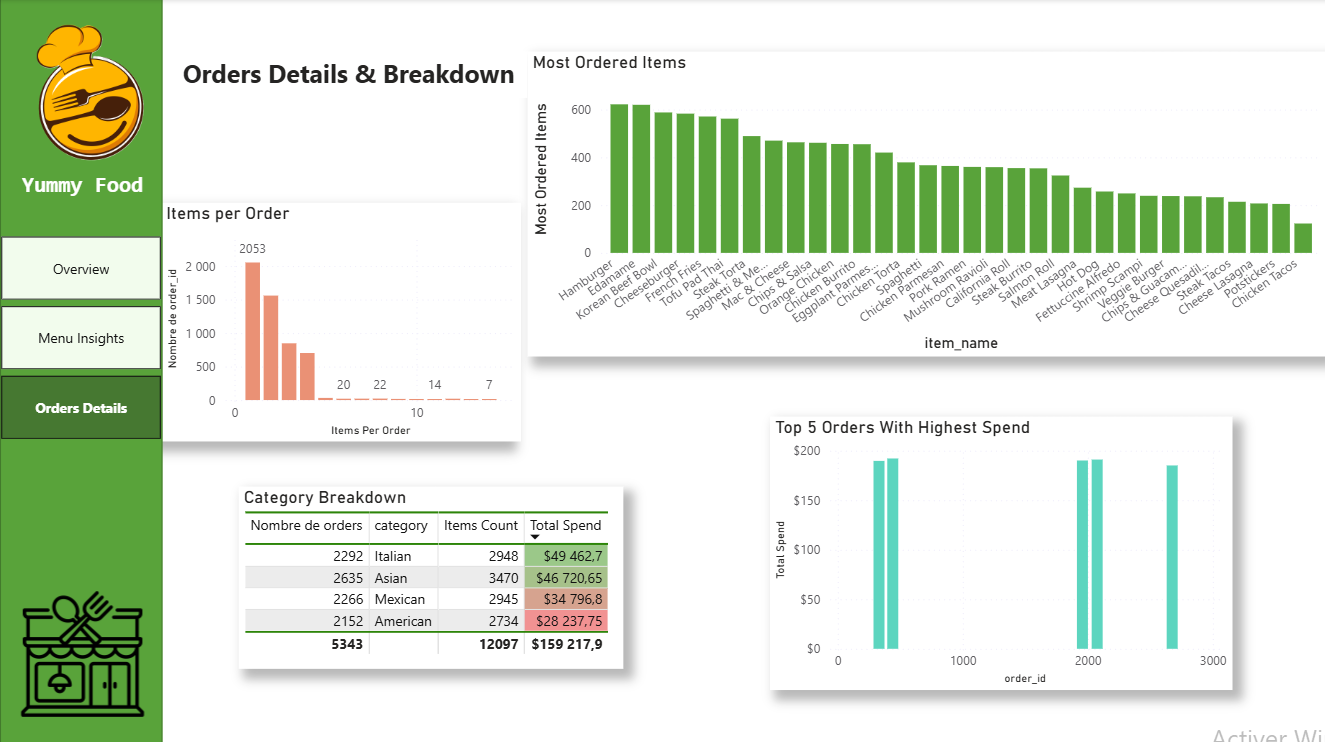

Layout of this report page (visuals, bound fields, positions):
{"tool":"powerbi","page":{"name":"Orders Details","canvas":[1280,720],"ordinal":2},"visuals":[{"type":"columnChart","title":"Most Ordered Items","fields":{"Category":["restaurant_db menu_items.item_name"],"Y":["Mesures.Most Ordered Items"]},"box":[509.1,50.7,770.9,294.4],"z":0},{"type":"clusteredColumnChart","title":"Top 5 Orders With Highest Spend","fields":{"Y":["Mesures.Total Spend"],"Category":["restaurant_db order_details.order_id"]},"box":[743.2,403,446.4,264.2],"z":1000},{"type":"tableEx","title":"Category Breakdown","fields":{"Values":["Count(restaurant_db order_details.order_id)","restaurant_db menu_items.category","Mesures.Items Count","Mesures.Total Spend"]},"box":[230.4,470.5,371.6,176.1],"z":2000},{"type":"columnChart","title":"Items per Order","fields":{"Category":["OrdersSummary.Items Per Order"],"Y":["Count(OrdersSummary.order_id)"]},"box":[155.6,196.6,347.5,230.4],"z":3000},{"type":"shape","box":[0,0,156.8,720.2],"z":4000},{"type":"image","box":[0,0,173.7,179.8],"z":5000},{"type":"actionButton","box":[9.7,144.8,139.9,68.8],"z":6000},{"type":"pageNavigator","box":[1.2,229.2,154.4,197.9],"z":7000},{"type":"image","box":[18.1,558.6,123.1,147.2],"z":8000},{"type":"textbox","box":[171.3,50.7,337.8,44.6],"z":9000}]}

Visuals, with their boxes on the page's 1280x720 design canvas (x1, y1, x2, y2). These are canvas units, not pixel positions in the 1325x742 screenshot, which may show the page scaled, cropped or inside an application window:
"Most Ordered Items" columnChart: <region>509, 51, 1280, 345</region>
"Top 5 Orders With Highest Spend" clusteredColumnChart: <region>743, 403, 1190, 667</region>
"Category Breakdown" tableEx: <region>230, 470, 602, 647</region>
"Items per Order" columnChart: <region>156, 197, 503, 427</region>
shape: <region>0, 0, 157, 720</region>
image: <region>0, 0, 174, 180</region>
actionButton: <region>10, 145, 150, 214</region>
pageNavigator: <region>1, 229, 156, 427</region>
image: <region>18, 559, 141, 706</region>
textbox: <region>171, 51, 509, 95</region>
